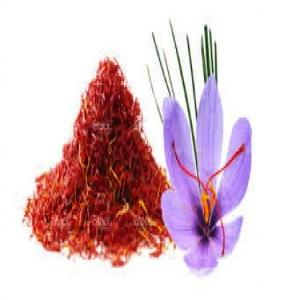Saffron: (161, 77, 251, 280)
